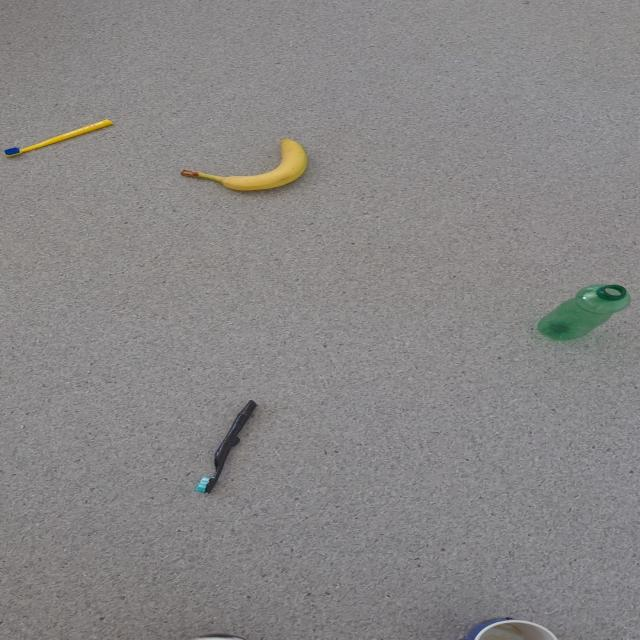banana: (180, 138, 308, 191)
bottle: (535, 283, 631, 341)
mug: (464, 617, 558, 640)
toothbrush: (194, 399, 258, 494), (3, 118, 113, 158)
